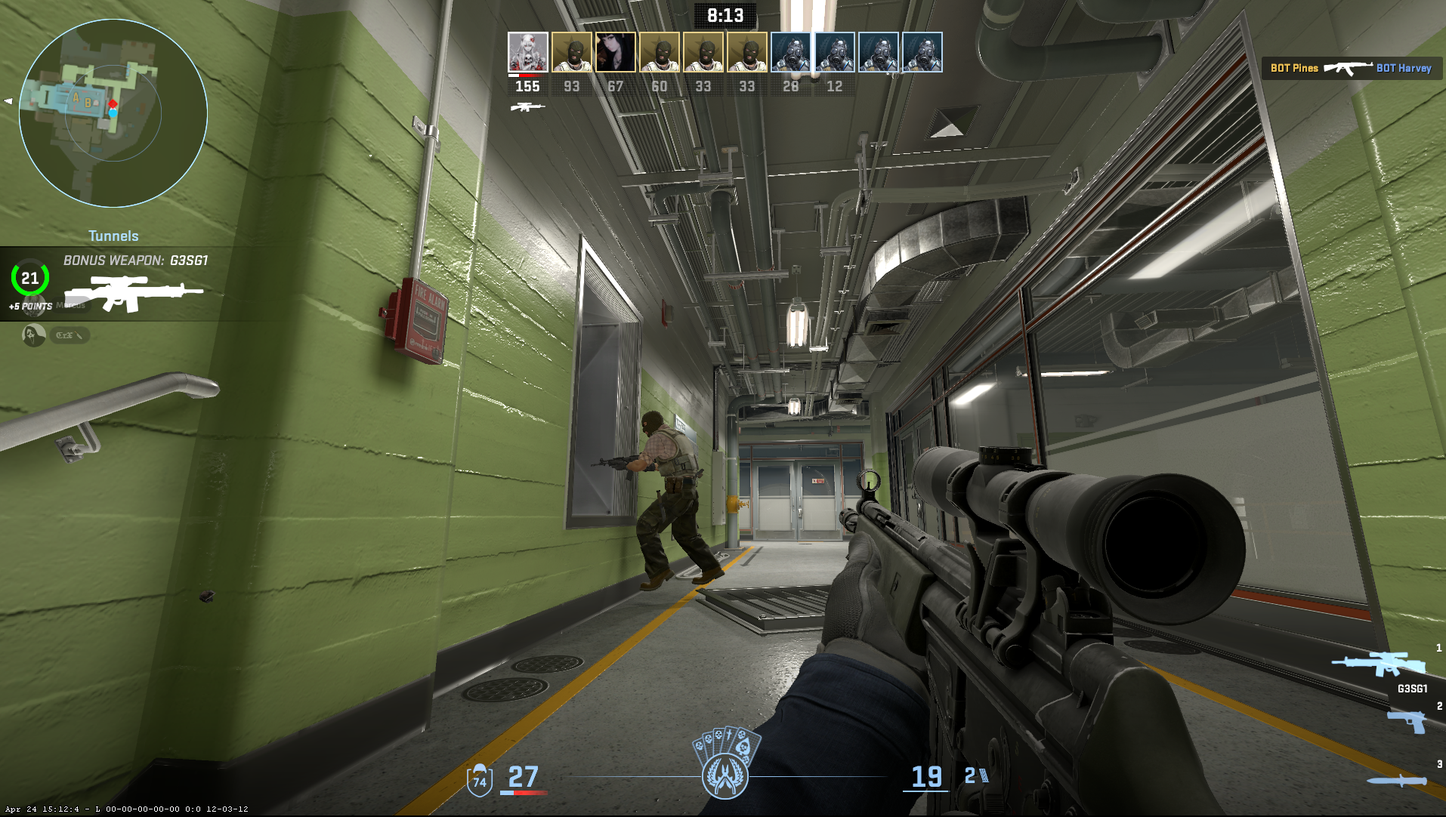T: (631, 411, 730, 590)
